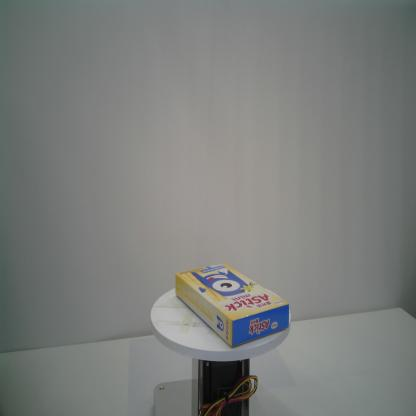Dessert: (174, 262, 291, 348)
